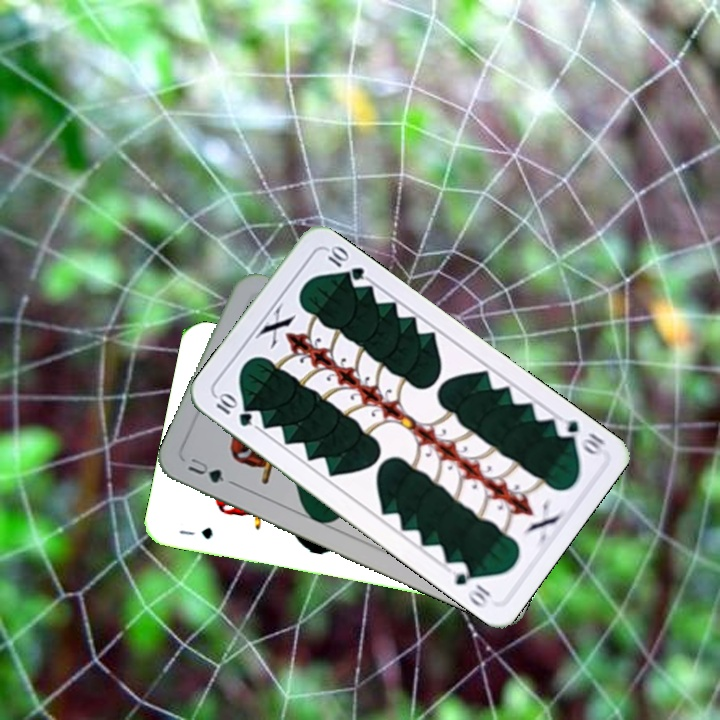G10: (550, 412, 609, 458), (212, 388, 255, 430)
GU: (183, 453, 227, 486), (175, 523, 215, 542)
